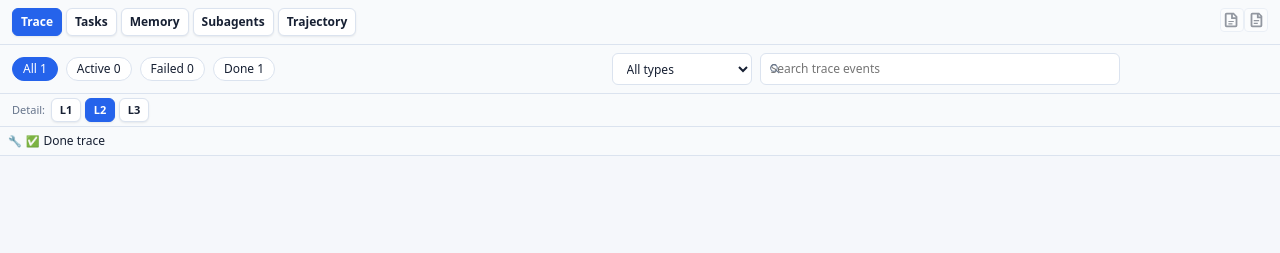
Test: TraceTimeline › shows a status-filter empty state when no trace entries match
Click the button with test id "trace-filter-failed" at (172, 69), box [140,57,205,81]
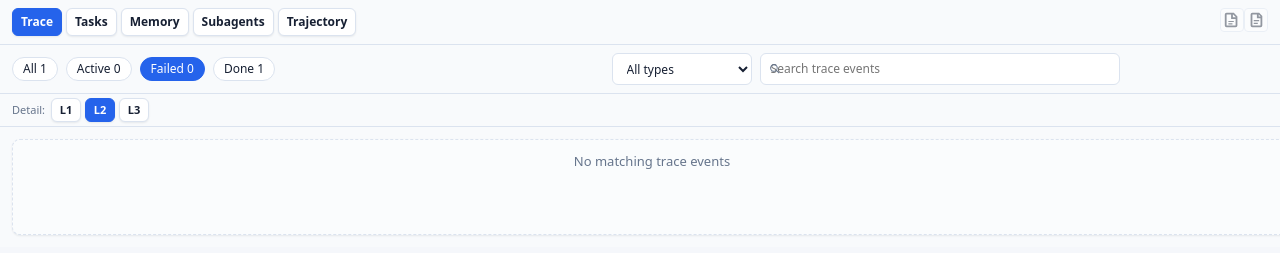
Expected: the text "No matching trace events" is shown, [574,152,730,171]
